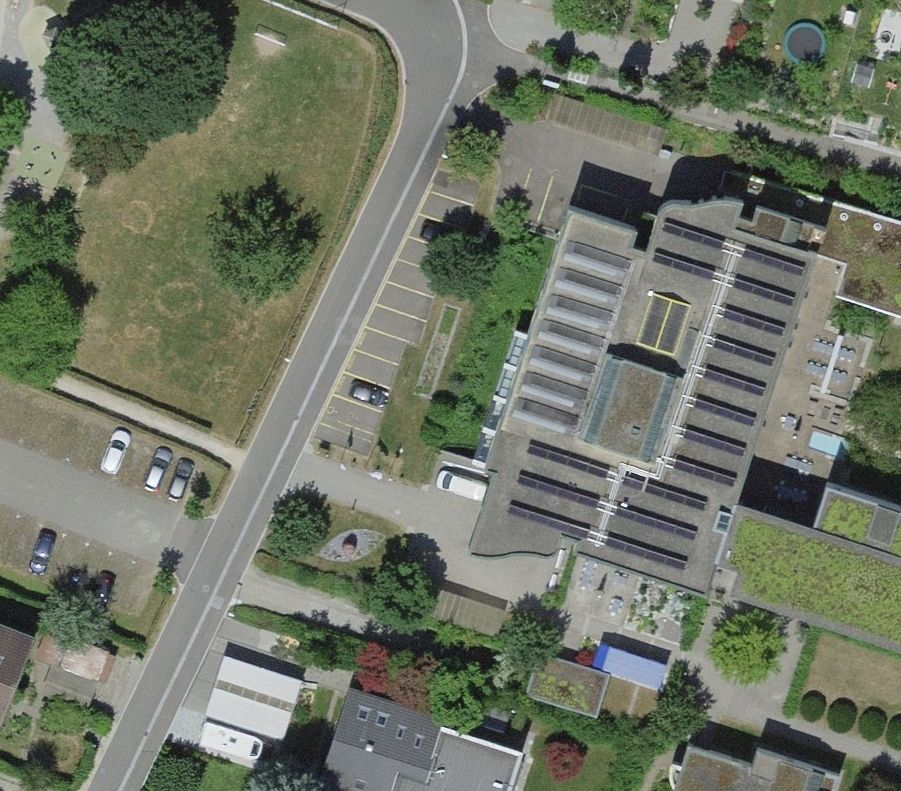solar: (503, 214, 814, 576), (502, 426, 757, 579), (658, 300, 789, 489), (641, 215, 808, 309)
